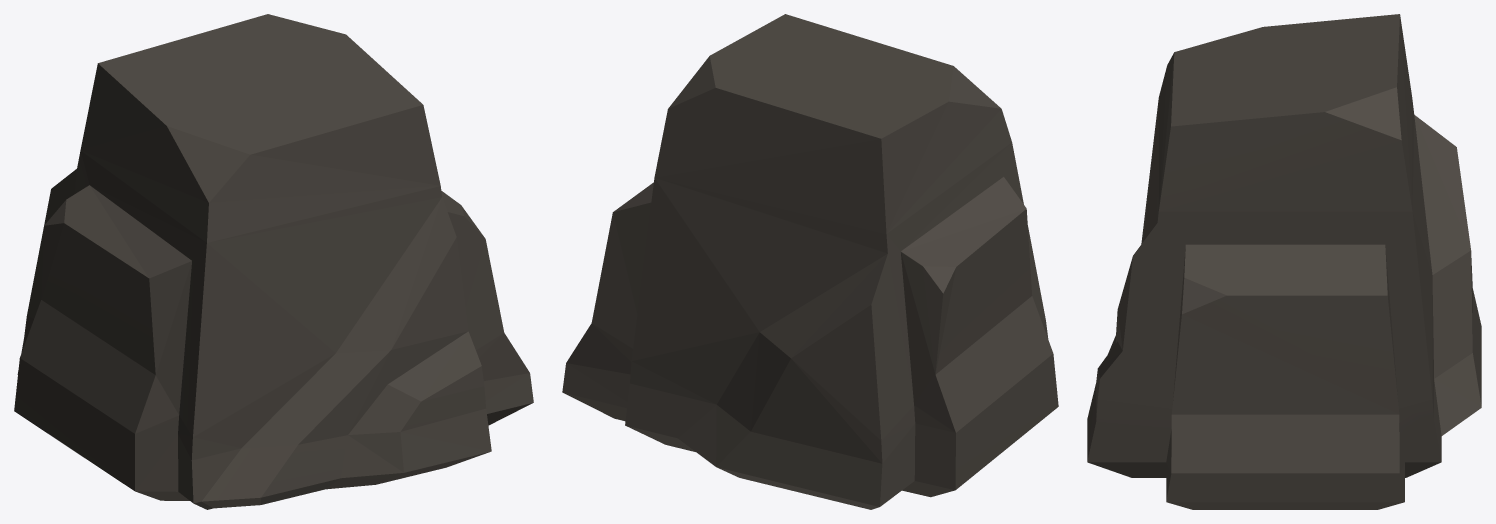
File: Roca_Decierto_Level3.glb
The picture shows the model from 3 angles, left to right: view 1: azimuth 30°, elevation 25°; view 2: azimuth 150°, elevation 25°; view 3: azimuth 270°, elevation 25°; orthographic projection.
Parts seen in each view (by area): view 1: SM_Env_Rock_01; view 2: SM_Env_Rock_01; view 3: SM_Env_Rock_01.
Part boxes in pixels (<box>): SM_Env_Rock_01: <box>14,14,533,509</box>; SM_Env_Rock_01: <box>562,14,1058,509</box>; SM_Env_Rock_01: <box>1087,14,1481,509</box>.
Size of the model in its own units: 5.84 by 5.15 by 5.
Materials: 1 (1 with a texture image).
